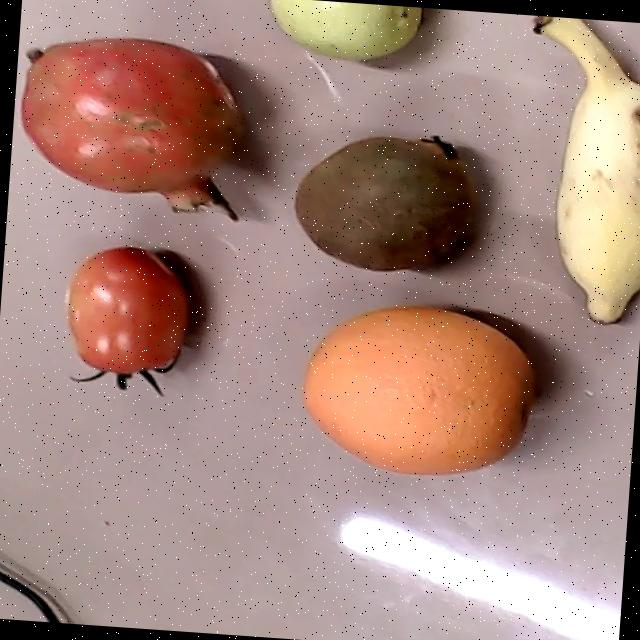kiwi: (294, 133, 480, 271)
lemon: (269, 0, 421, 61)
orange: (302, 304, 535, 474)
pomegranate: (18, 35, 244, 221)
tomato: (67, 246, 191, 396)
